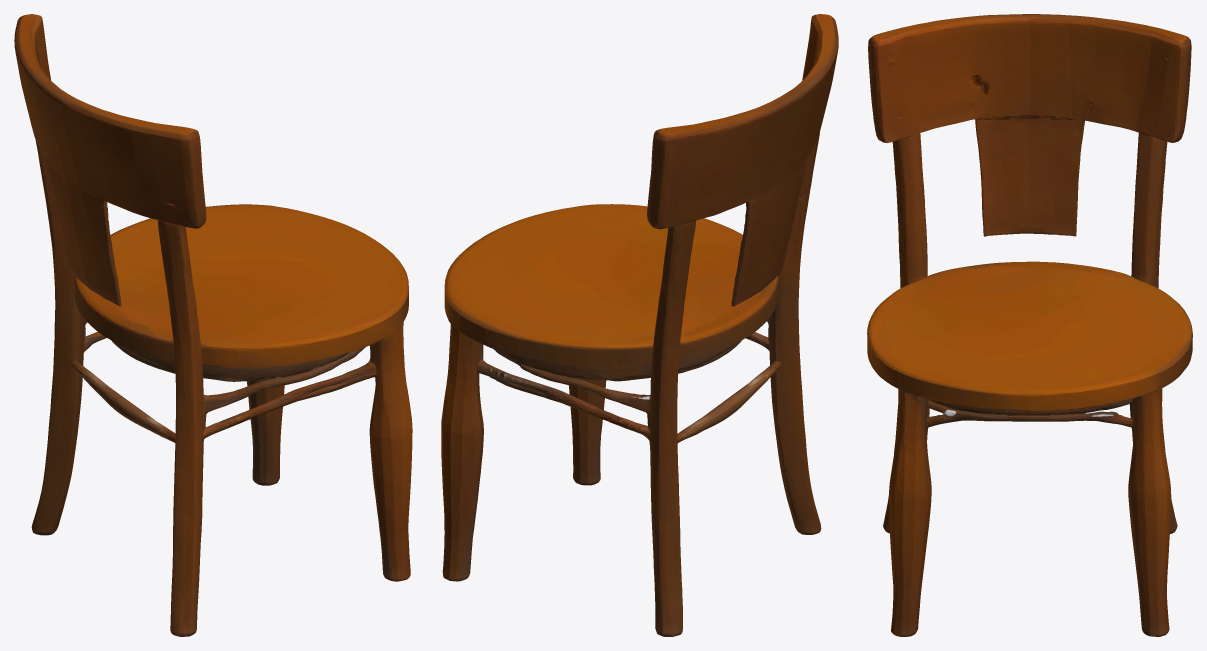
File: dining_chair_6.glb
The picture shows the model from 3 angles, left to right: view 1: azimuth 30°, elevation 25°; view 2: azimuth 150°, elevation 25°; view 3: azimuth 270°, elevation 25°; orthographic projection. The views are drawn at different scales.
Visible parts, largest first — view 1: dining_chair_6.obj; view 2: dining_chair_6.obj; view 3: dining_chair_6.obj.
Boxes of the visible parts, x1=… form: dining_chair_6.obj: x1=14, y1=14, x2=412, y2=636; dining_chair_6.obj: x1=441, y1=14, x2=838, y2=636; dining_chair_6.obj: x1=867, y1=14, x2=1192, y2=636.
Size of the model in its own units: 0.6332 by 0.925 by 0.5571.
Materials: 1 (1 with a texture image).
